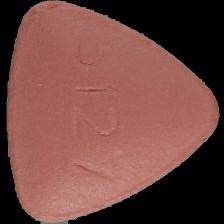0093-5127: (0, 0, 224, 224)
